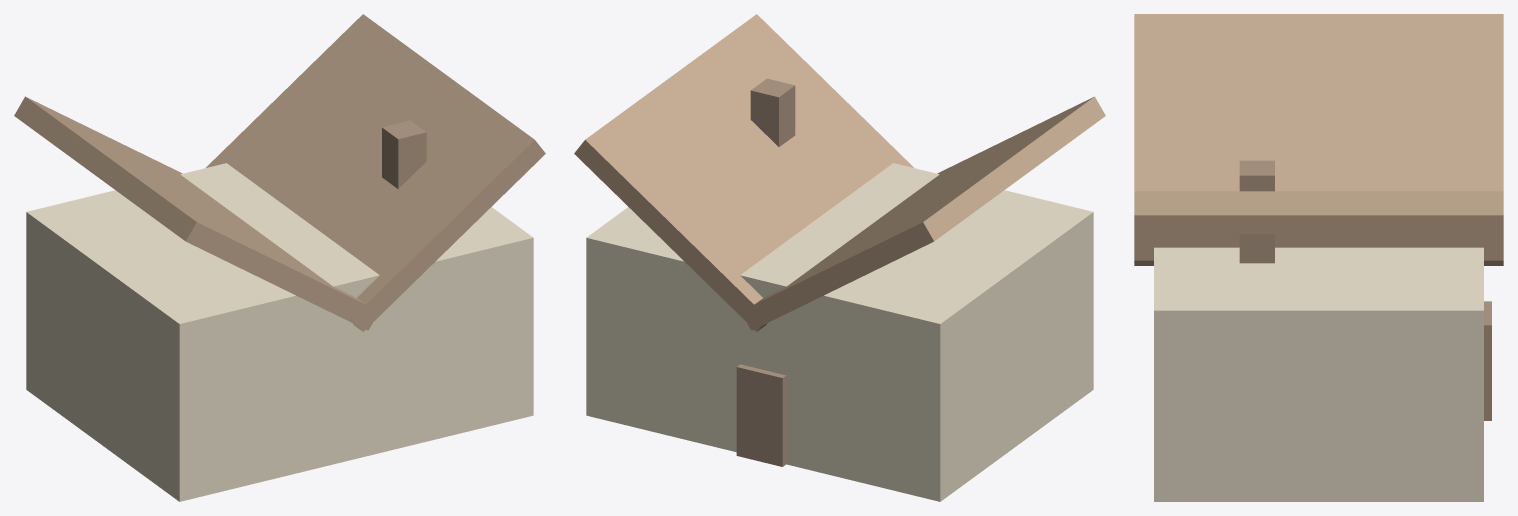
The picture shows the model from 3 angles, left to right: view 1: azimuth 30°, elevation 25°; view 2: azimuth 150°, elevation 25°; view 3: azimuth 270°, elevation 25°; orthographic projection. The views are drawn at different scales.
Visible parts, largest first — view 1: walls, roof-right, roof-left, chimney; view 2: walls, roof-right, roof-left, door, chimney; view 3: walls, roof-left, roof-right, chimney, door.
Part boxes in pixels (bbox=[...]): walls: bbox=[26, 163, 533, 501]; roof-right: bbox=[206, 14, 545, 331]; roof-left: bbox=[14, 96, 379, 330]; chimney: bbox=[382, 120, 426, 188]; walls: bbox=[586, 163, 1093, 501]; roof-right: bbox=[574, 14, 913, 331]; roof-left: bbox=[740, 96, 1105, 330]; door: bbox=[736, 364, 786, 466]; chimney: bbox=[750, 78, 795, 146]; walls: bbox=[1154, 247, 1483, 501]; roof-left: bbox=[1134, 14, 1503, 265]; roof-right: bbox=[1134, 191, 1503, 260]; chimney: bbox=[1239, 160, 1274, 263]; door: bbox=[1484, 301, 1491, 420].
Size of the model in its own units: 10.18 by 7.68 by 8.4.
